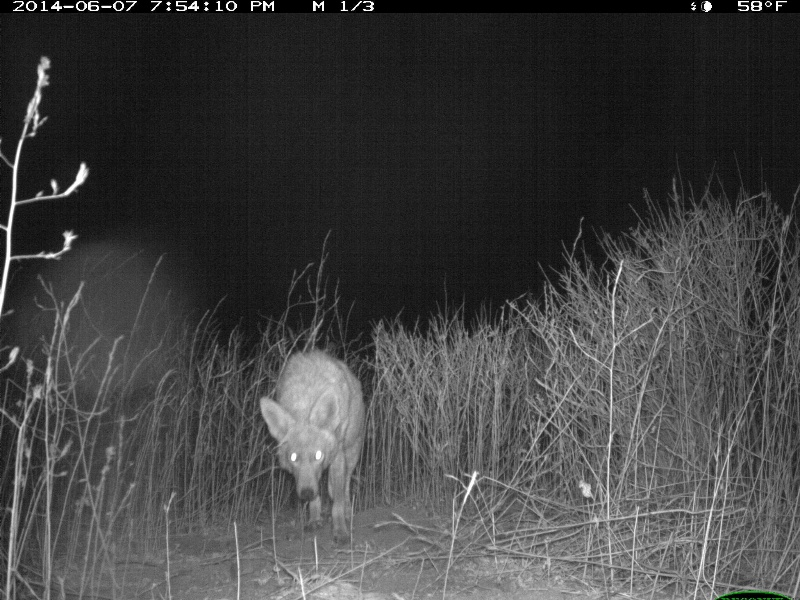coyote: (252, 348, 374, 548)
